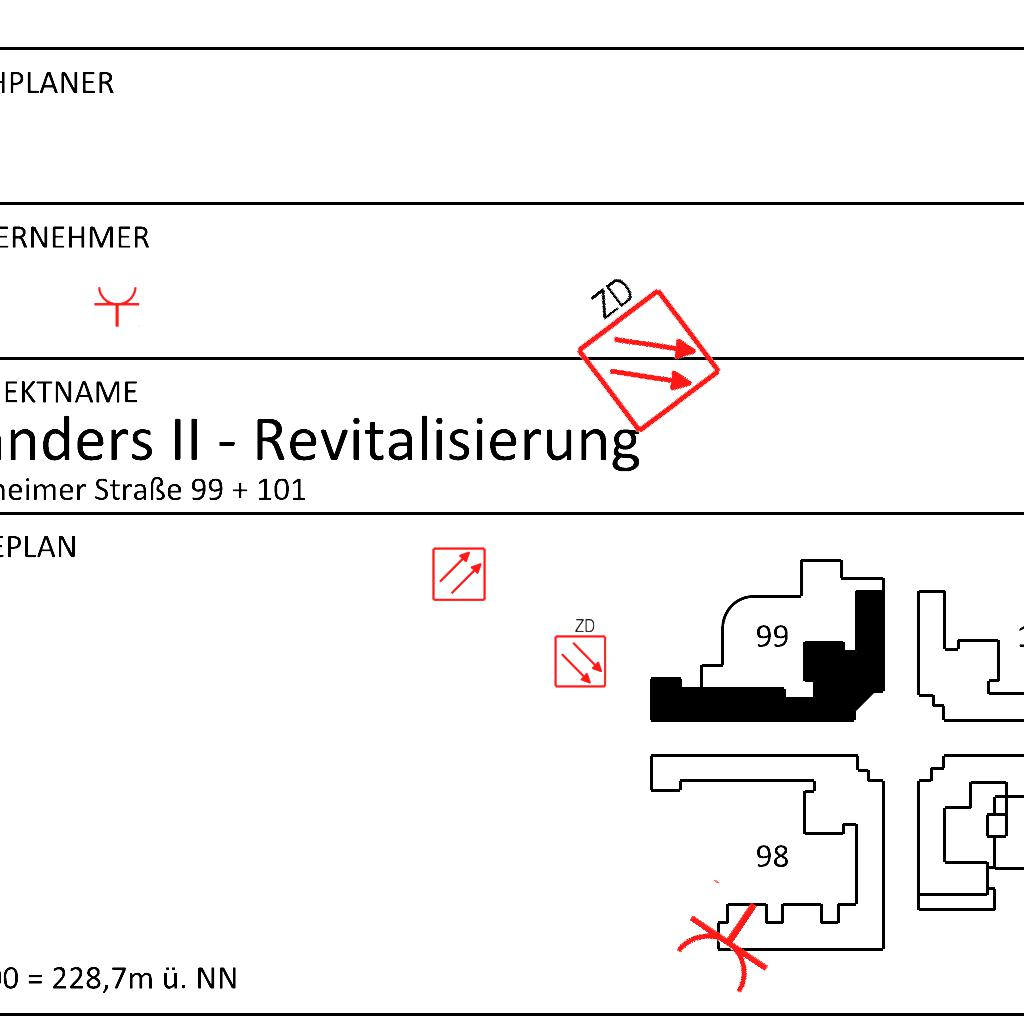RMO_Rauchmelder_optischer: (431, 546, 487, 602)
Schukosteckdose_einfach: (663, 873, 796, 1003), (93, 285, 143, 328)
ZD_Melder_in_Zwischendecke_mit_Revisionsoeffnung_mind_40_x_40_cm: (545, 252, 727, 441), (551, 615, 608, 689)
